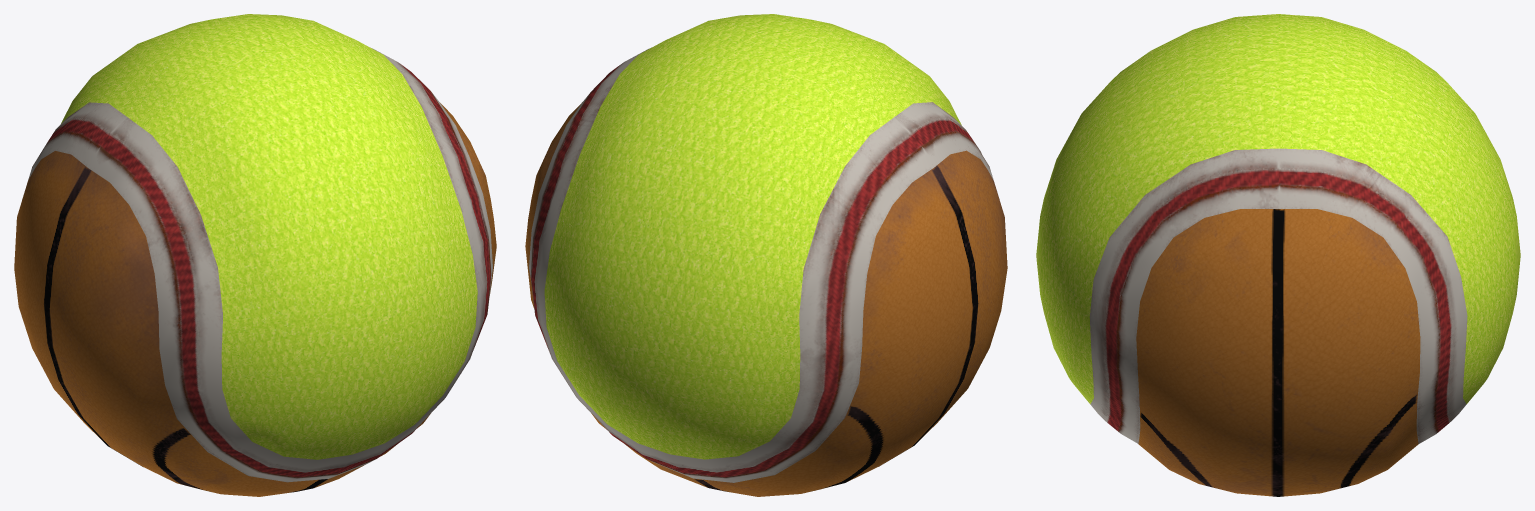
Rendered from New Ball.fbx.
3 renders of one model, left to right at view 1: azimuth 30°, elevation 25°; view 2: azimuth 150°, elevation 25°; view 3: azimuth 270°, elevation 25°, orthographic.
Parts seen in each view (by area): view 1: 2_LOW_POLY; view 2: 2_LOW_POLY; view 3: 2_LOW_POLY.
Part boxes in pixels (<box>): 2_LOW_POLY: <box>14,14,496,496</box>; 2_LOW_POLY: <box>525,14,1007,496</box>; 2_LOW_POLY: <box>1036,14,1520,496</box>.
Bounding box in the file's own units: 198 × 198 × 198.
